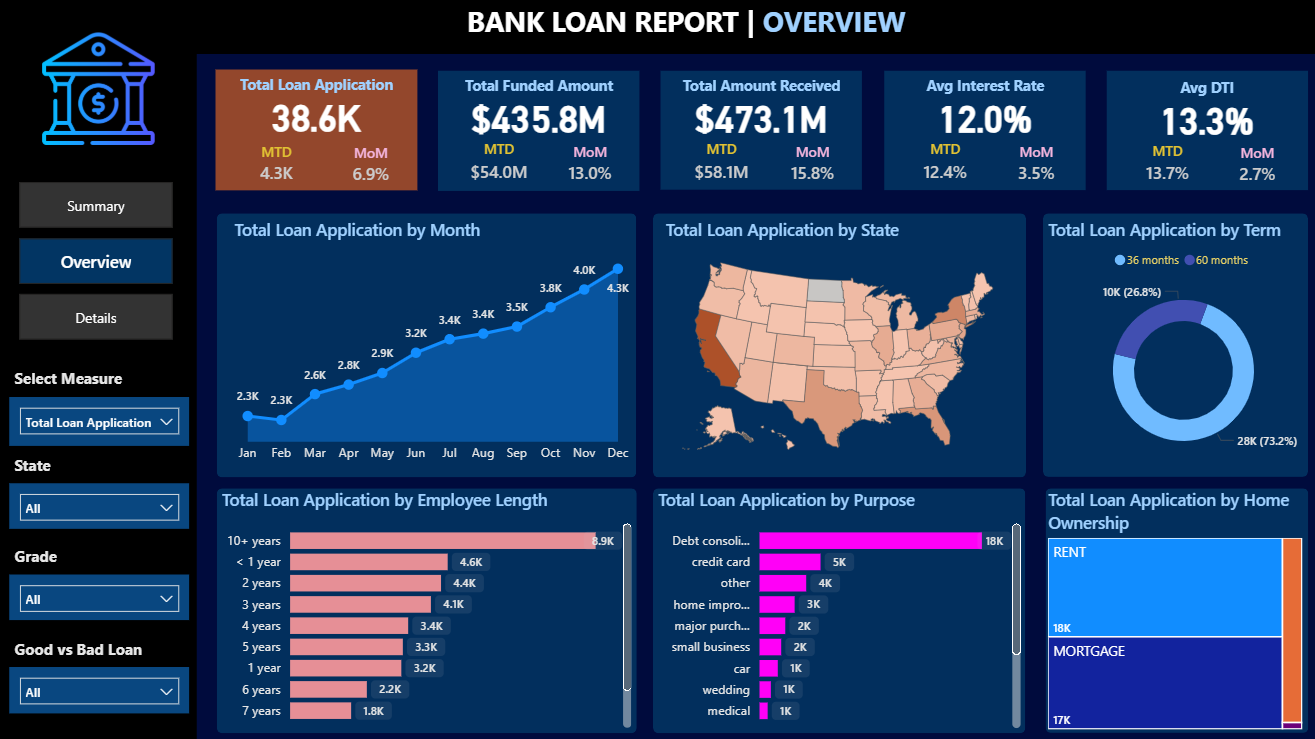

Layout of this report page (visuals, bound fields, positions):
{"tool":"powerbi","page":{"name":"Overview","canvas":[1280,720],"ordinal":2},"visuals":[{"type":"shape","box":[629.2,66.4,193.8,114.2],"z":0,"group":"g3"},{"type":"shape","box":[839.7,67.5,194.5,114],"z":0,"group":"g4"},{"type":"shape","box":[214.3,68.6,194.3,114.3],"z":0,"group":"g1"},{"type":"shape","box":[421.4,68.6,194.5,114],"z":0,"group":"g2"},{"type":"shape","box":[1047.5,69,211.7,112.9],"z":0,"group":"g5"},{"type":"shape","box":[214.3,204.3,405,235],"z":0},{"type":"shape","box":[0,0,1259.3,54.7],"z":1000},{"type":"card","fields":{"Values":["table_measures.avg_interest_rate"]},"box":[851.5,82.1,165.9,58.4],"z":1000,"group":"g4"},{"type":"card","fields":{"Values":["table_measures.total_loan_appl"]},"box":[247.2,83.2,124.3,61.3],"z":1000,"group":"g1"},{"type":"card","fields":{"Values":["table_measures.total_funded_amt"]},"box":[433.2,83.2,165.9,58.4],"z":1000,"group":"g2"},{"type":"card","fields":{"Values":["table_measures.avg_DTI"]},"box":[1060.3,83.4,180.6,57.8],"z":1000,"group":"g5"},{"type":"card","fields":{"Values":["table_measures.total_received_amt"]},"box":[643.2,85.3,163.1,55.8],"z":1000,"group":"g3"},{"type":"shape","box":[0,54.7,191.9,655.8],"z":2000},{"type":"textbox","box":[632.2,67,191,41.6],"z":2000,"group":"g3"},{"type":"textbox","box":[839.7,67.5,194.5,38.9],"z":2000,"group":"g4"},{"type":"textbox","box":[214.3,68.6,194.3,39],"z":2000,"group":"g1"},{"type":"textbox","box":[421.4,68.6,194.5,38.9],"z":2000,"group":"g2"},{"type":"textbox","box":[1047.5,69,211.7,38.5],"z":2000,"group":"g5"},{"type":"card","title":"MTD","fields":{"Values":["table_measures.MTD_loan_appl"]},"box":[235.7,132.7,51.4,50.2],"z":3000,"group":"g1"},{"type":"card","title":"MTD","fields":{"Values":["table_measures.MTD_interest_rate"]},"box":[851.5,136.3,70.1,48.6],"z":3000,"group":"g4"},{"type":"card","title":"MTD","fields":{"Values":["table_measures.MTD_received_amt"]},"box":[643.2,137.1,68.9,46.5],"z":3000,"group":"g3"},{"type":"card","title":"MTD","fields":{"Values":["table_measures.MTD_avg_DTI"]},"box":[1060.3,137.1,76.3,48.2],"z":3000,"group":"g5"},{"type":"card","title":"MTD","fields":{"Values":["table_measures.MTD_funded_amt"]},"box":[433.2,137.4,70.1,48.6],"z":3000,"group":"g2"},{"type":"textbox","box":[12.4,448.7,119.7,38.5],"z":3000},{"type":"textbox","box":[509.2,1.4,447.3,49.5],"z":4000},{"type":"card","title":"MoM","fields":{"Values":["table_measures.MOM_loan_appl"]},"box":[320,132.7,51.4,50.2],"z":4000,"group":"g1"},{"type":"card","title":"MoM","fields":{"Values":["table_measures.MOM_interest_rate"]},"box":[946.6,136.1,57.8,49.7],"z":4000,"group":"g4"},{"type":"card","title":"MoM","fields":{"Values":["table_measures.MOM_received_amt"]},"box":[736.7,136.9,56.8,47.5],"z":4000,"group":"g3"},{"type":"card","title":"MoM","fields":{"Values":["table_measures.MOM_avg_DTI"]},"box":[1163.9,136.9,62.9,49.2],"z":4000,"group":"g5"},{"type":"card","title":"MoM","fields":{"Values":["table_measures.MOM_funded_amt"]},"box":[528.3,137.2,57.8,49.7],"z":4000,"group":"g2"},{"type":"group","id":"g1","title":"Group 1","box":[214.3,68.6,194.3,114.3],"z":5000},{"type":"group","id":"g2","title":"Group 1","box":[421.4,68.6,194.3,118],"z":6000},{"type":"group","id":"g3","title":"Group 1","box":[629.2,66.4,194,118],"z":7000},{"type":"group","id":"g4","title":"Group 1","box":[839.7,67.5,194.5,118.2],"z":8000},{"type":"group","id":"g5","title":"Group 1","box":[1047.5,69,211.5,116.9],"z":9000},{"type":"shape","box":[635.9,203.7,360,235],"z":10000},{"type":"slicer","fields":{"Values":["financial_loan.address_state"]},"box":[5.5,468,180.3,50.9],"z":11000},{"type":"slicer","fields":{"Values":["financial_loan.grade"]},"box":[5.5,546.4,180.3,50.9],"z":12000},{"type":"textbox","box":[12.4,523,119.7,38.5],"z":13000},{"type":"slicer","fields":{"Values":["financial_loan.Good vs Band Loan"]},"box":[6.9,630.4,180.3,50.9],"z":14000},{"type":"textbox","box":[13.8,607,163.8,38.5],"z":15000},{"type":"areaChart","fields":{"Y":["table_measures.total_loan_appl"],"Category":["Date Table.Month"]},"box":[214.7,203.7,404.6,235.4],"z":16000},{"type":"slicer","fields":{"Values":["Select Measure.Select Measure"]},"box":[5.5,390.9,180.3,55.1],"z":17000},{"type":"shape","box":[213.3,445.9,406,264.3],"z":18000},{"type":"shapeMap","fields":{"Value":["table_measures.total_loan_appl"],"Category":["financial_loan.address_state"]},"box":[635.9,203.7,360.6,235.4],"z":19000},{"type":"shape","box":[1008.9,203.7,250.5,235.4],"z":20000},{"type":"donutChart","fields":{"Y":["table_measures.total_loan_appl"],"Category":["financial_loan.term"]},"box":[1008.1,203.5,251.2,234.9],"z":21000},{"type":"barChart","fields":{"Y":["table_measures.total_loan_appl"],"Category":["financial_loan.emp_length"]},"box":[213.3,445.9,404.6,264.3],"z":22000},{"type":"textbox","box":[12.4,371.6,139,38.5],"z":23000},{"type":"shape","box":[635.9,445.9,360.6,264.3],"z":24000},{"type":"barChart","fields":{"Y":["table_measures.total_loan_appl"],"Category":["financial_loan.purpose"]},"box":[635.9,445.9,360.6,264.3],"z":25000},{"type":"shape","box":[1008.9,445.9,250.5,264.3],"z":26000},{"type":"treemap","fields":{"Values":["table_measures.total_loan_appl"],"Group":["financial_loan.home_ownership"]},"box":[1009.3,446.5,250,264],"z":27000},{"type":"pageNavigator","box":[6.9,180.3,178.9,163.8],"z":28000},{"type":"image","box":[0,1.4,187.2,156.9],"z":29000}]}

Visuals, with their boxes in screenshot pixels (x1, y1, x2, y2), scaled from the page's 1280x720 canvas onto the 1315x739 screenshot:
shape: Rect(646, 68, 846, 185)
shape: Rect(863, 69, 1062, 186)
shape: Rect(220, 70, 420, 188)
shape: Rect(433, 70, 633, 187)
shape: Rect(1076, 71, 1294, 187)
shape: Rect(220, 210, 636, 451)
shape: Rect(0, 0, 1294, 56)
card - table_measures.avg_interest_rate: Rect(875, 84, 1045, 144)
card - table_measures.total_loan_appl: Rect(254, 85, 382, 148)
card - table_measures.total_funded_amt: Rect(445, 85, 615, 145)
card - table_measures.avg_DTI: Rect(1089, 86, 1275, 145)
card - table_measures.total_received_amt: Rect(661, 88, 828, 145)
shape: Rect(0, 56, 197, 729)
textbox: Rect(649, 69, 846, 111)
textbox: Rect(863, 69, 1062, 109)
textbox: Rect(220, 70, 420, 110)
textbox: Rect(433, 70, 633, 110)
textbox: Rect(1076, 71, 1294, 110)
"MTD" card: Rect(242, 136, 295, 188)
"MTD" card: Rect(875, 140, 947, 190)
"MTD" card: Rect(661, 141, 732, 188)
"MTD" card: Rect(1089, 141, 1168, 190)
"MTD" card: Rect(445, 141, 517, 191)
textbox: Rect(13, 461, 136, 500)
textbox: Rect(523, 1, 983, 52)
"MoM" card: Rect(329, 136, 382, 188)
"MoM" card: Rect(972, 140, 1032, 191)
"MoM" card: Rect(757, 141, 815, 189)
"MoM" card: Rect(1196, 141, 1260, 191)
"MoM" card: Rect(543, 141, 602, 192)
"Group 1" group: Rect(220, 70, 420, 188)
"Group 1" group: Rect(433, 70, 633, 192)
"Group 1" group: Rect(646, 68, 846, 189)
"Group 1" group: Rect(863, 69, 1062, 191)
"Group 1" group: Rect(1076, 71, 1293, 191)
shape: Rect(653, 209, 1023, 450)
slicer - financial_loan.address_state: Rect(6, 480, 191, 533)
slicer - financial_loan.grade: Rect(6, 561, 191, 613)
textbox: Rect(13, 537, 136, 576)
slicer - financial_loan.Good vs Band Loan: Rect(7, 647, 192, 699)
textbox: Rect(14, 623, 182, 663)
areaChart - table_measures.total_loan_appl x Date Table.Month: Rect(221, 209, 636, 451)
slicer - Select Measure.Select Measure: Rect(6, 401, 191, 458)
shape: Rect(219, 458, 636, 729)
shapeMap - table_measures.total_loan_appl x financial_loan.address_state: Rect(653, 209, 1024, 451)
shape: Rect(1036, 209, 1294, 451)
donutChart - table_measures.total_loan_appl x financial_loan.term: Rect(1036, 209, 1294, 450)
barChart - table_measures.total_loan_appl x financial_loan.emp_length: Rect(219, 458, 635, 729)
textbox: Rect(13, 381, 156, 421)
shape: Rect(653, 458, 1024, 729)
barChart - table_measures.total_loan_appl x financial_loan.purpose: Rect(653, 458, 1024, 729)
shape: Rect(1036, 458, 1294, 729)
treemap - table_measures.total_loan_appl x financial_loan.home_ownership: Rect(1037, 458, 1294, 729)
pageNavigator: Rect(7, 185, 191, 353)
image: Rect(0, 1, 192, 162)
